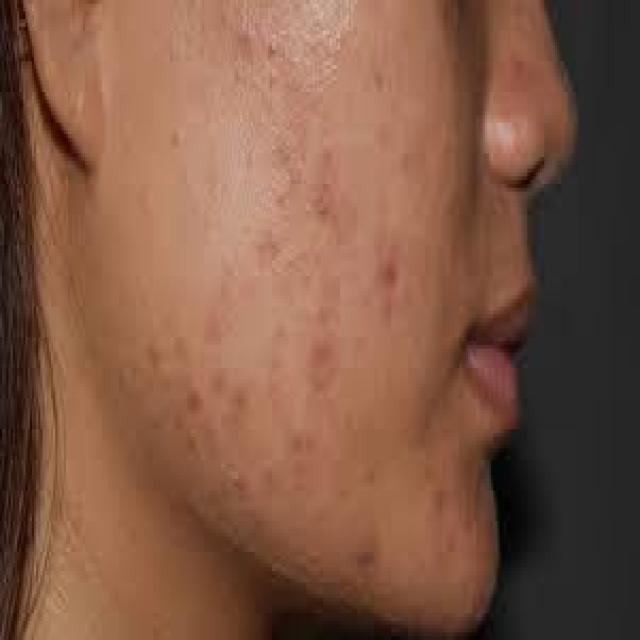pigmentation: (259, 165, 425, 344)
